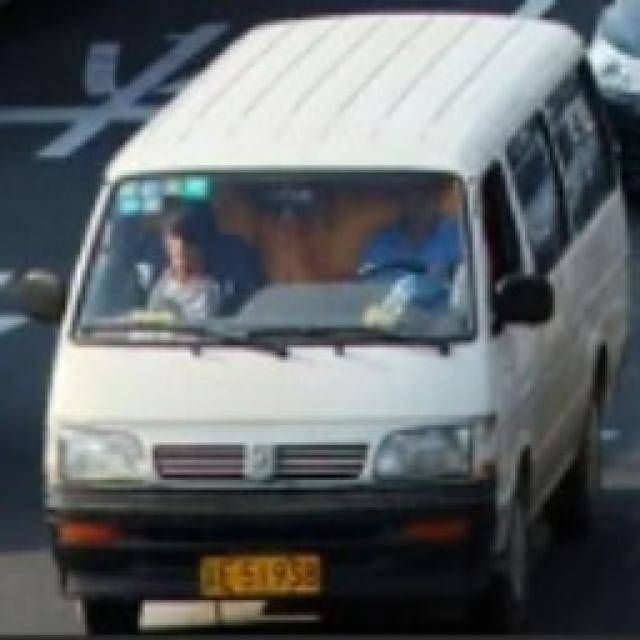windshield: (75, 171, 488, 364)
